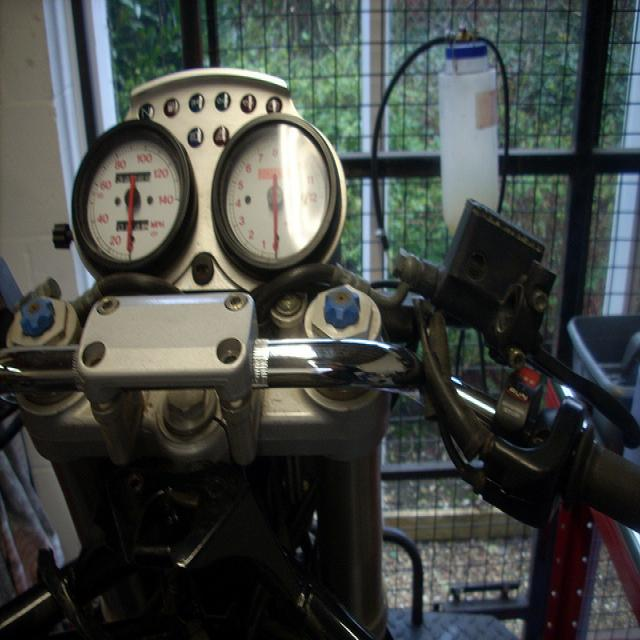motor: (0, 28, 640, 640)
